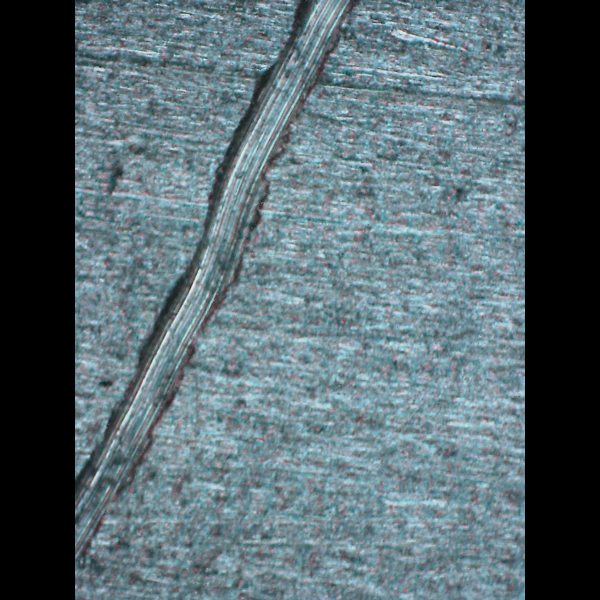d: (75, 0, 369, 568)
